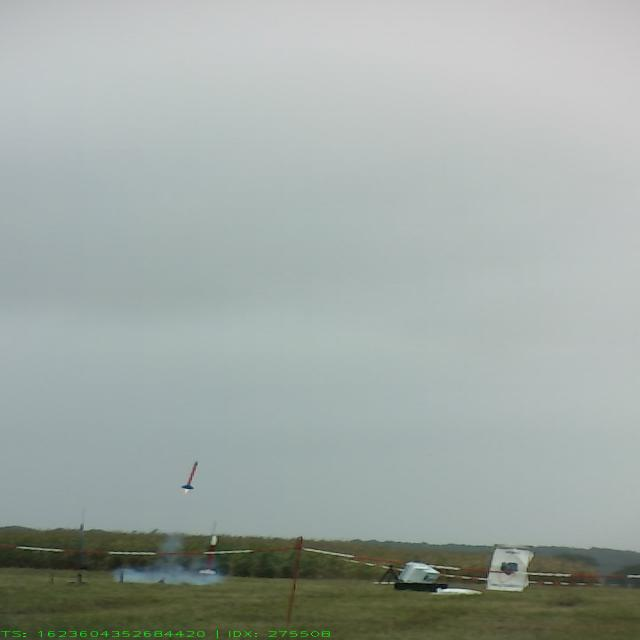Rocket: (197, 534, 218, 576), (182, 460, 198, 490)
